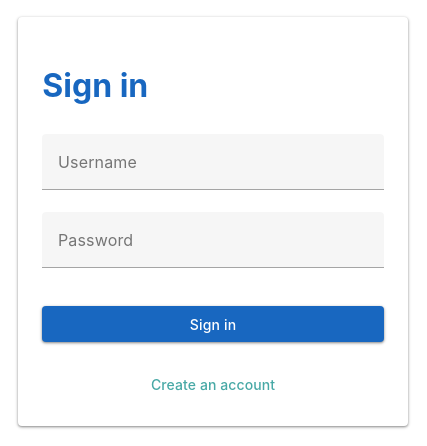
it: Feature 1 — Login view › US-1.2 — Sign in › User signs in with missing password
Type "jdoe" into the field labelled "Username". click: (213, 162)
box: [42,134,384,190]
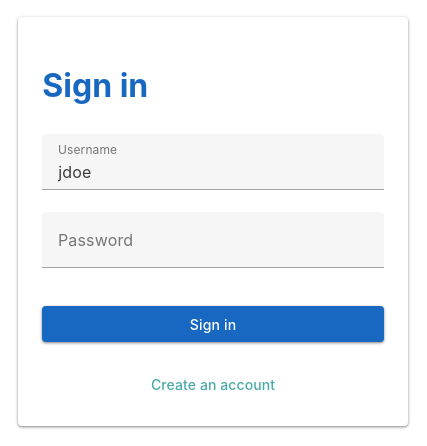
Submit the form, box [42,134,384,342]
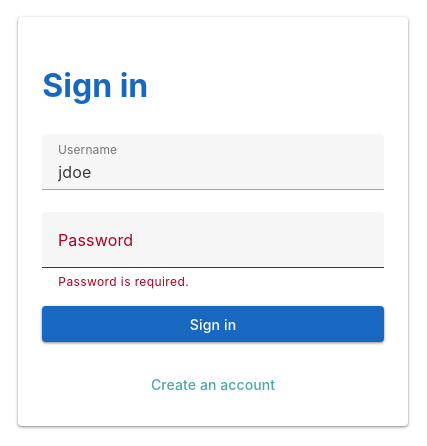
Result: the text "Password is required." is shown at [58,274,189,289]
